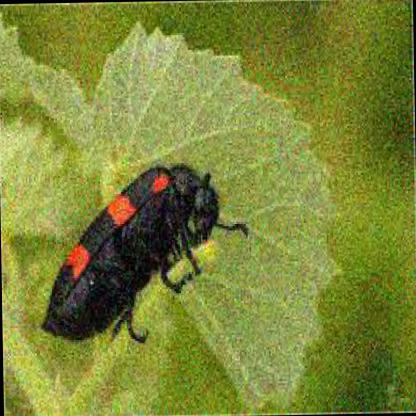blister beetle: (36, 159, 218, 345)
